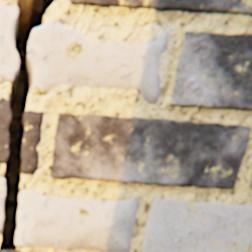brick: (50, 115, 249, 189), (171, 32, 251, 111), (141, 199, 251, 251), (69, 0, 251, 16), (249, 176, 251, 188)
broken_brick: (27, 22, 168, 103), (15, 191, 137, 251), (0, 6, 19, 83), (21, 112, 43, 175), (0, 99, 11, 163), (0, 178, 5, 234)
crack: (0, 0, 55, 251)
